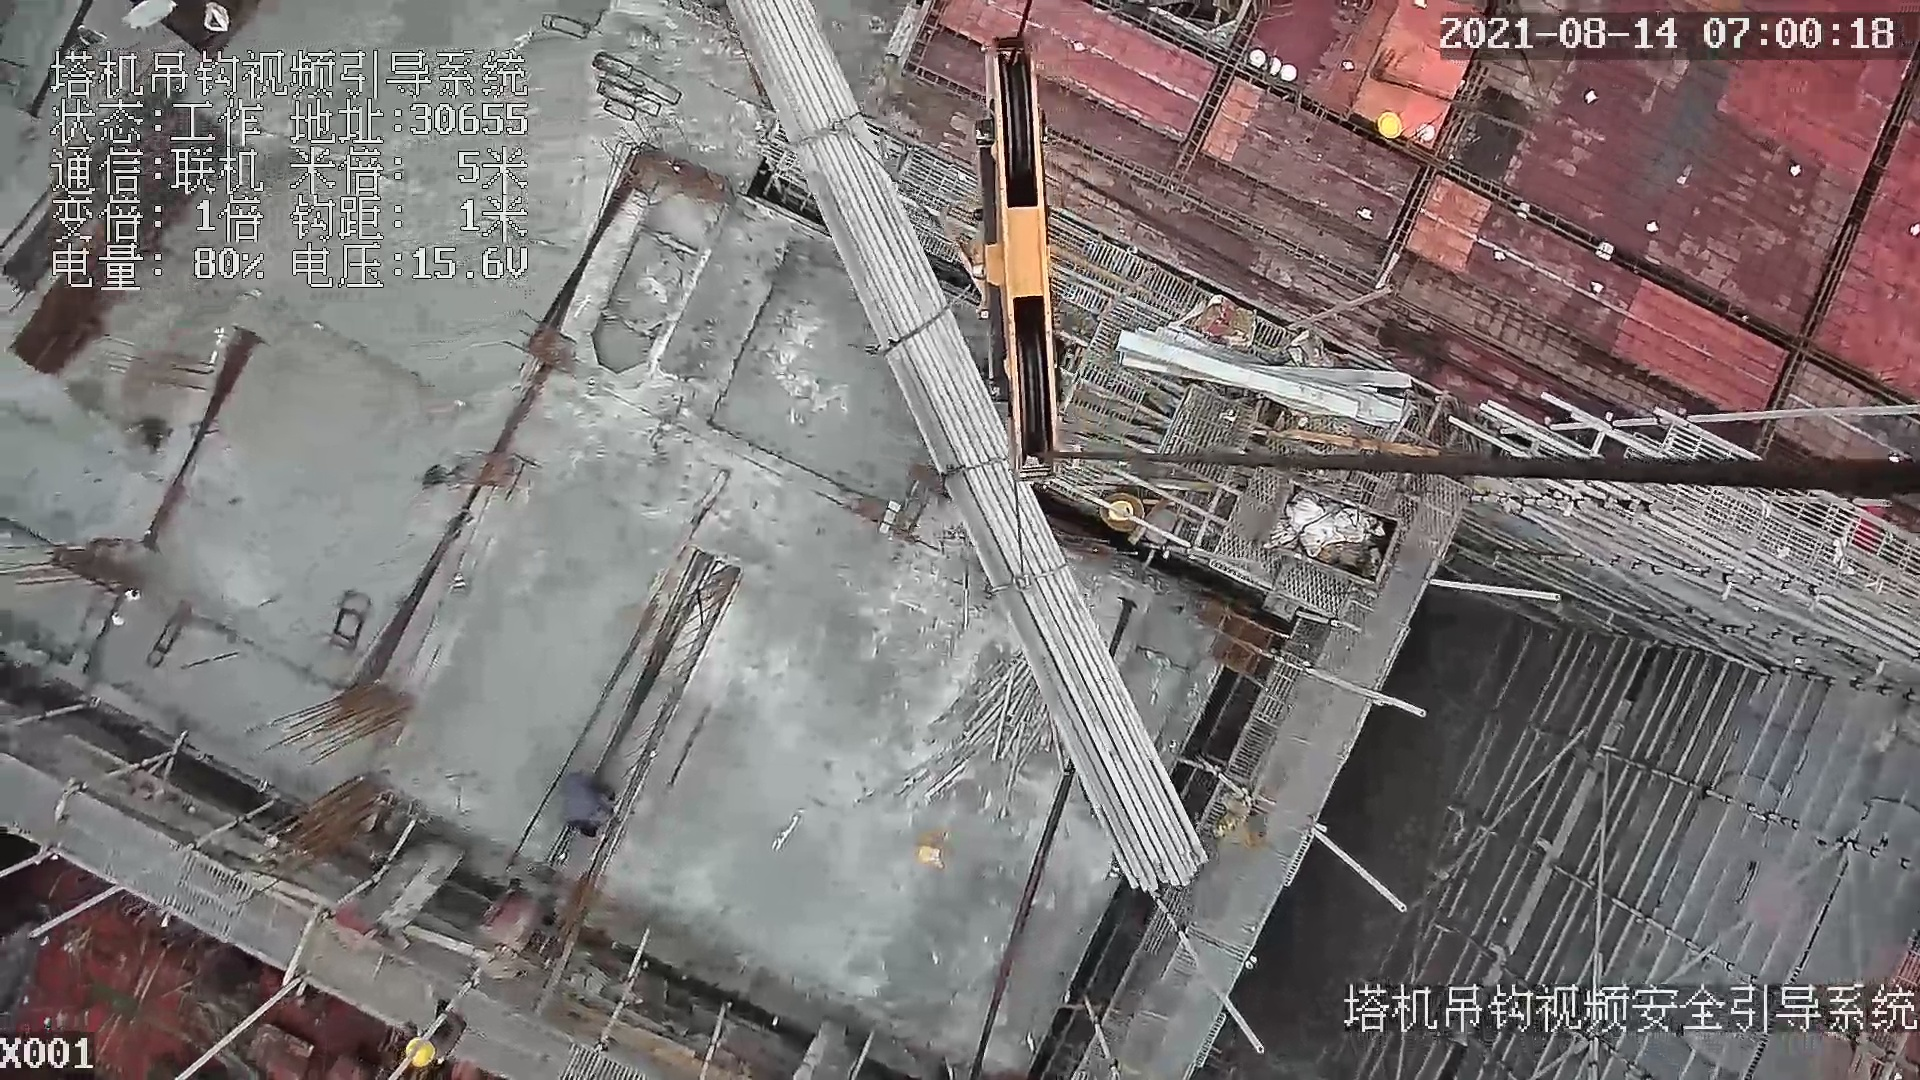helmet: (406, 1038, 435, 1067), (1377, 112, 1403, 138), (1109, 501, 1133, 521)
hook: (946, 33, 1078, 492)
person: (404, 994, 472, 1065), (558, 771, 615, 844)
rebar: (732, 1, 1206, 896)
